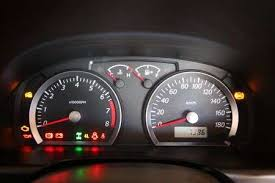Digital_Meter: (170, 126, 210, 137)
